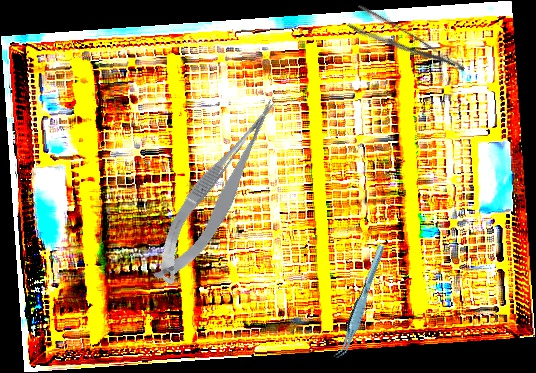Dressing Forceps: (346, 2, 467, 90)
Micro Scissor: (135, 92, 302, 292)
Tissue Forceps: (323, 243, 398, 362)
